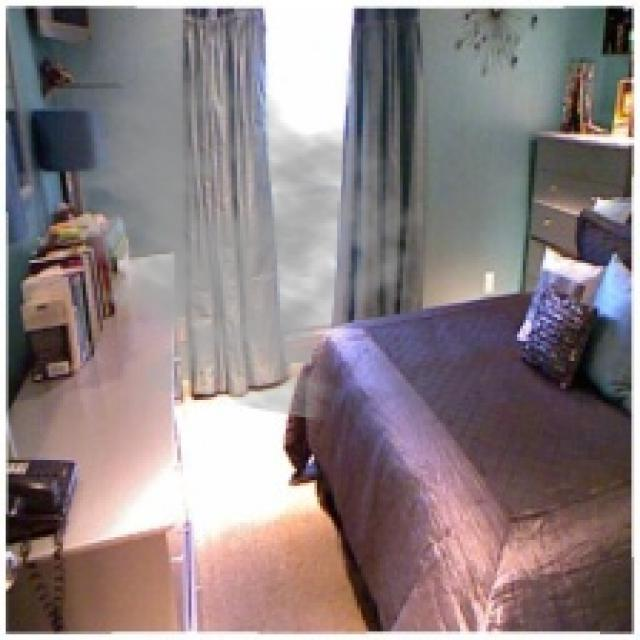smoke: (34, 63, 434, 423)
